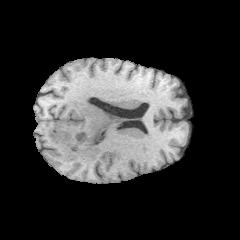glioma: (49, 98, 121, 161)
